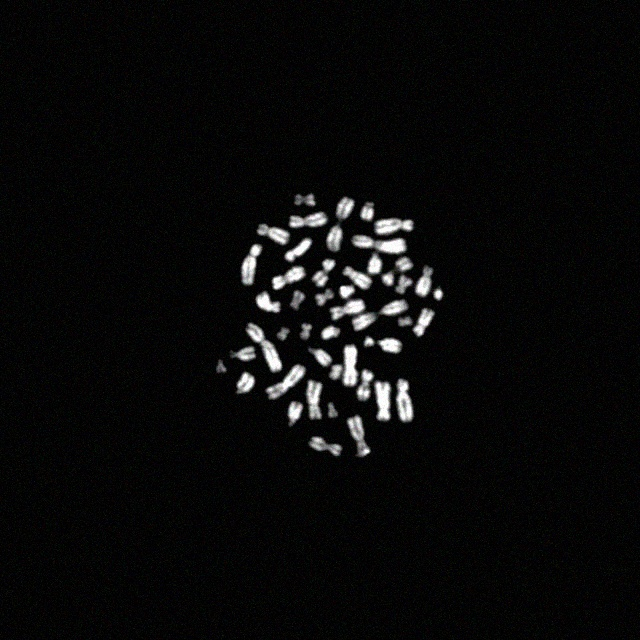chromosome: (246, 322, 282, 372), (352, 300, 408, 332), (328, 197, 354, 253), (266, 364, 304, 400), (352, 236, 406, 254), (348, 414, 370, 456), (272, 266, 306, 290), (241, 244, 261, 284), (396, 380, 414, 422), (312, 258, 338, 286), (342, 266, 372, 290), (374, 218, 414, 235), (330, 300, 364, 320), (284, 238, 312, 262), (257, 224, 289, 244), (374, 381, 390, 421), (309, 436, 341, 456), (344, 344, 358, 388), (290, 212, 328, 228), (414, 309, 434, 337), (308, 380, 322, 420), (416, 265, 432, 297), (256, 292, 280, 312), (308, 348, 332, 367), (358, 369, 372, 401), (235, 372, 255, 394), (230, 346, 256, 360), (288, 402, 302, 426), (316, 288, 334, 306), (378, 339, 400, 353), (368, 253, 382, 274), (396, 276, 412, 294), (291, 290, 305, 310), (322, 326, 341, 340), (361, 201, 374, 221), (396, 256, 412, 272), (340, 284, 356, 298), (328, 364, 342, 380), (296, 194, 314, 206), (382, 270, 394, 286), (300, 324, 312, 340), (276, 328, 290, 340), (398, 316, 412, 326), (328, 404, 338, 418), (434, 288, 444, 300), (364, 336, 374, 346), (218, 360, 226, 372)
